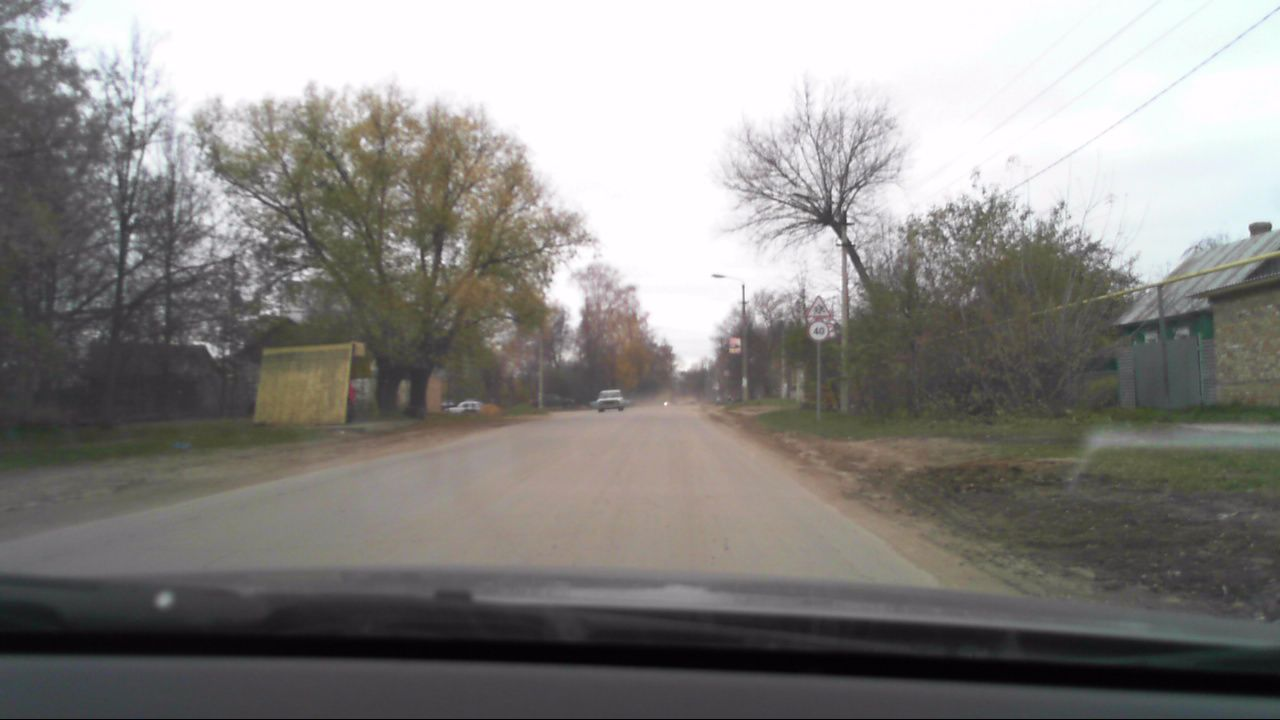speed_warning_40: (807, 320, 829, 341)
